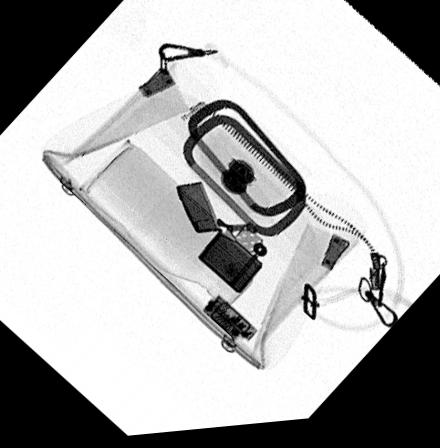Lighter: (174, 183, 267, 297)
